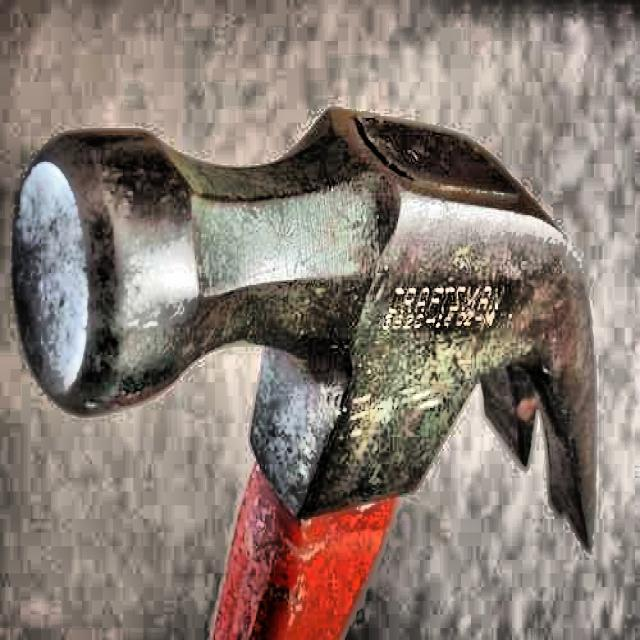hammer: (10, 28, 603, 624)
